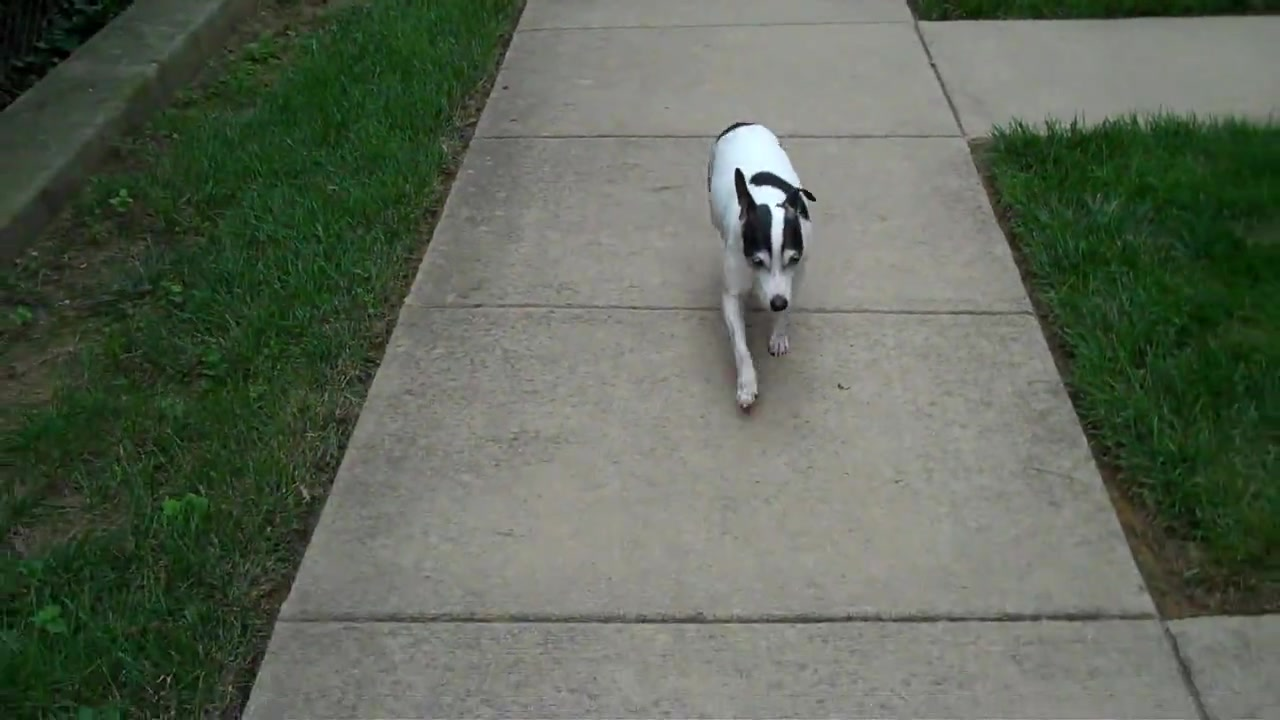dog: (703, 120, 818, 415)
